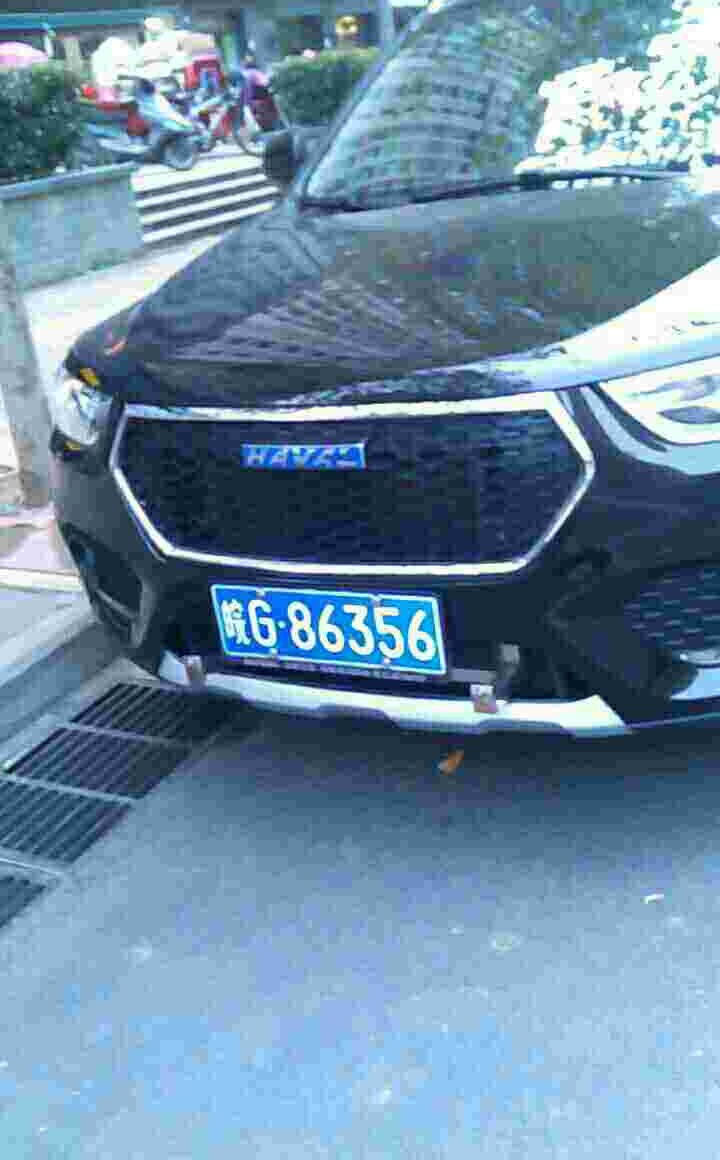license_plate: (212, 587, 439, 680)
